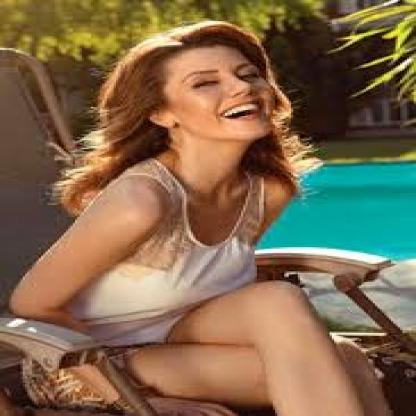person: (118, 27, 298, 162)
